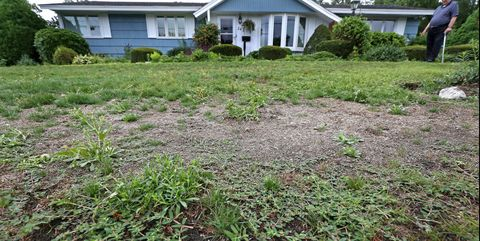crabgrass: (123, 174, 202, 210), (69, 141, 116, 164)
